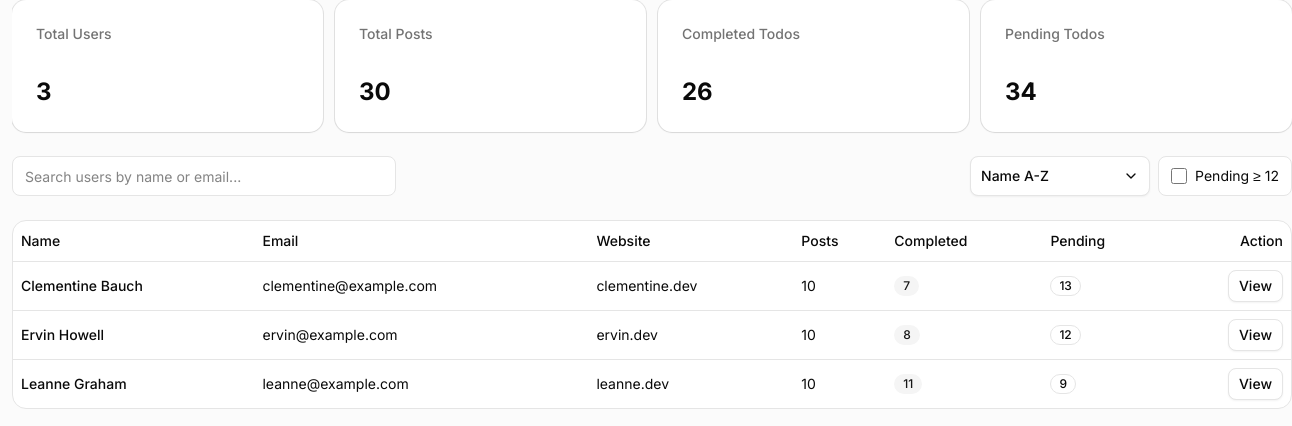
UsersClient › filters users by search input
This screenshot has width=1292, height=426.
Type "Leanne" into the field with placeholder "Search users by name or email..." at (204, 176), box x1=12 y1=156 x2=396 y2=196
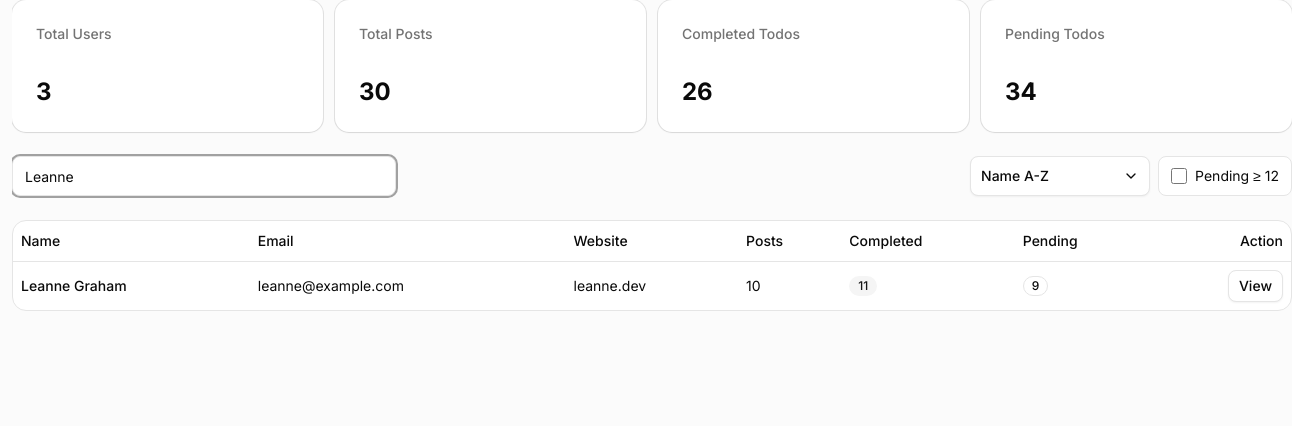
Expected: the text "Leanne Graham" is shown, x1=13 y1=261 x2=250 y2=310
Expected: the text "Ervin Howell" is gone
Expected: the text "Clementine Bauch" is gone
